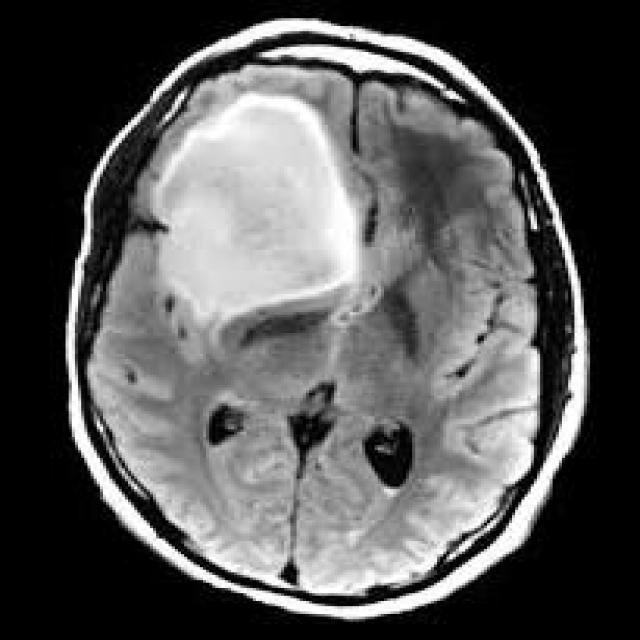Tumor: (150, 90, 371, 348)
